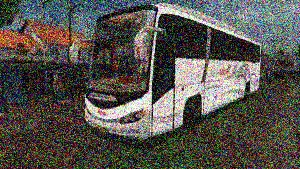bus: (86, 2, 259, 141)
